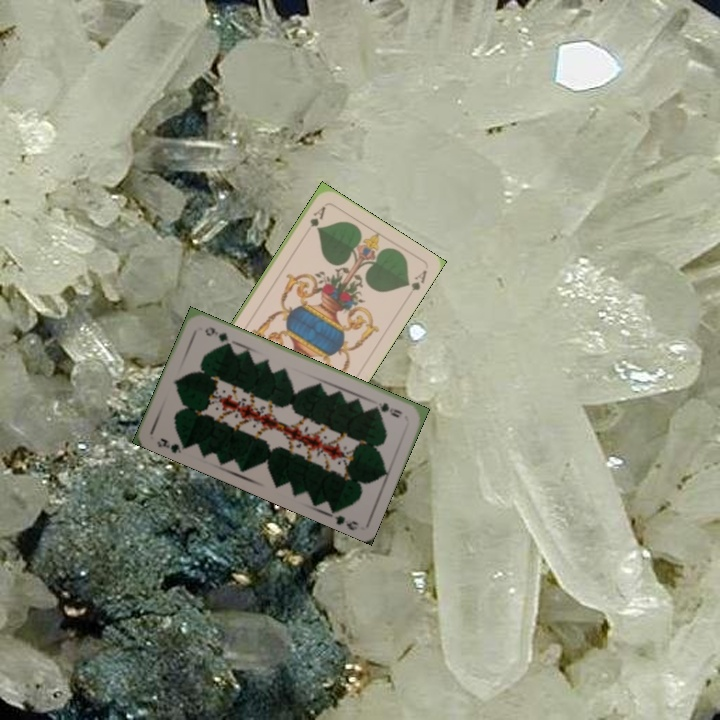G9: (153, 434, 190, 456), (370, 398, 405, 420)
GA: (306, 202, 328, 230)
